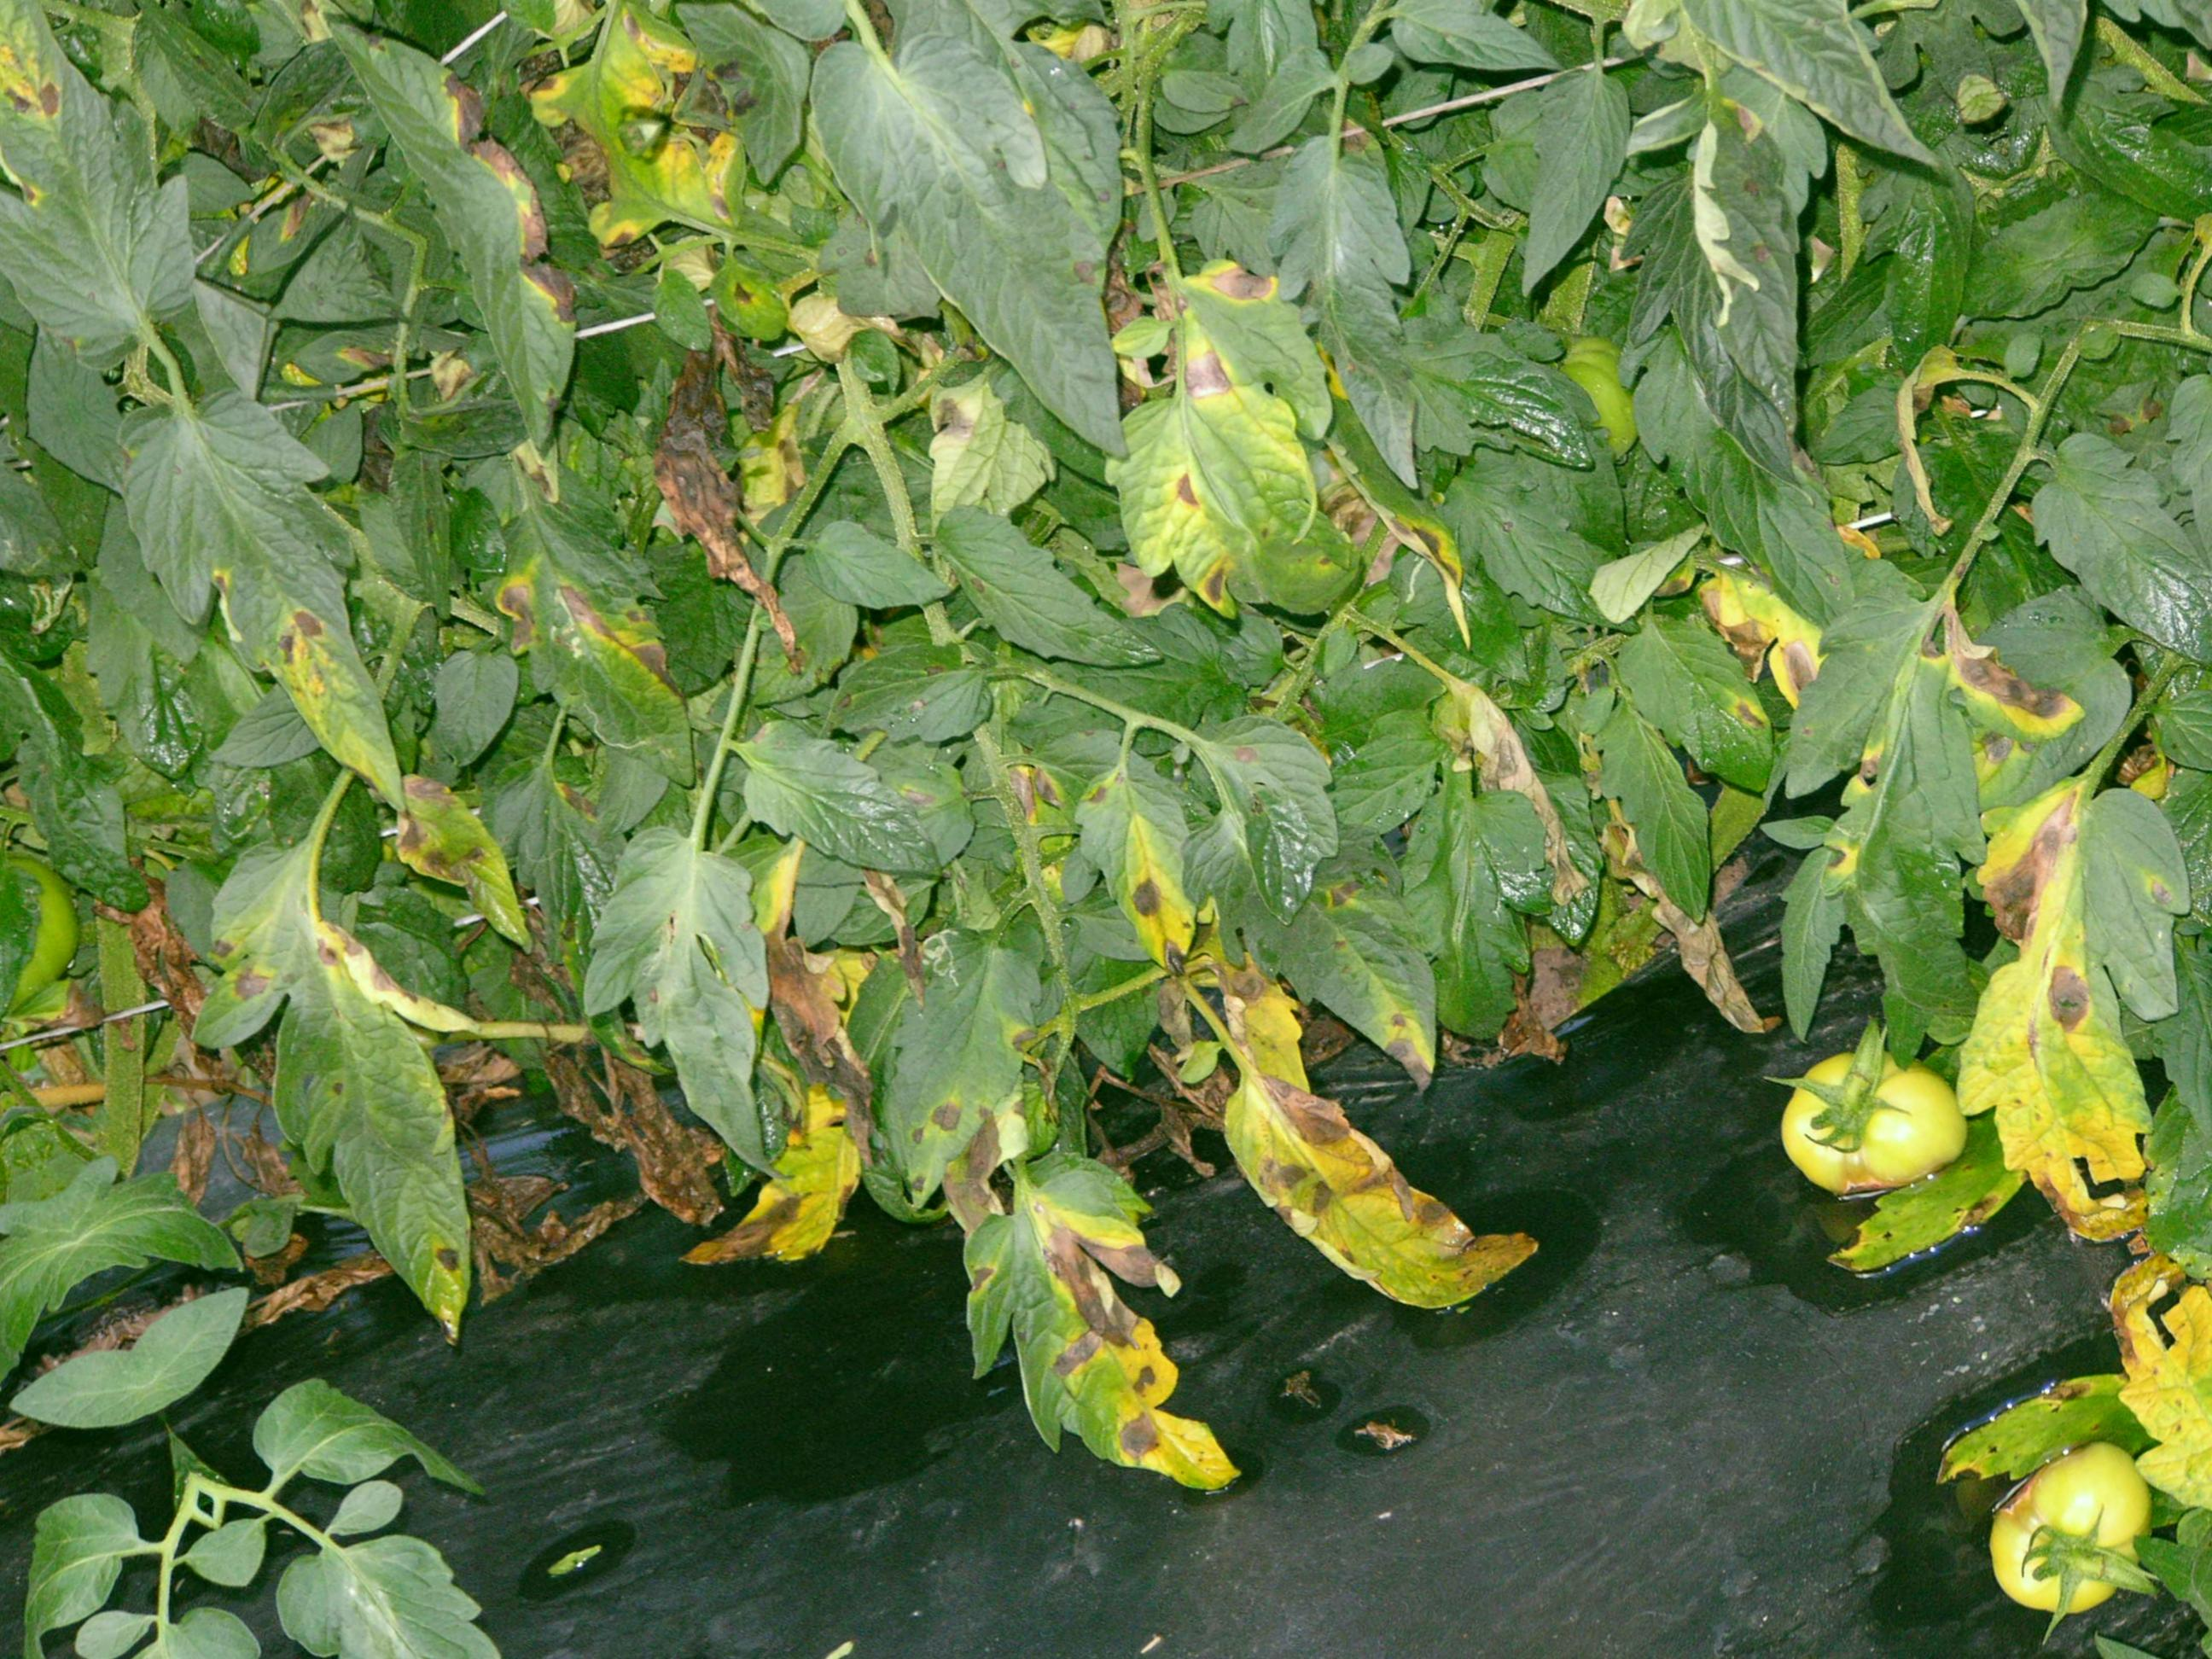Tomato Early blight leaf: (119, 768, 569, 1387), (63, 311, 505, 861), (1157, 951, 1590, 1461), (1866, 718, 2212, 1237), (931, 1126, 1295, 1580), (445, 420, 756, 826), (1237, 137, 1496, 517), (1079, 352, 1384, 663), (910, 457, 1173, 744), (1580, 573, 1834, 870), (575, 109, 846, 381), (712, 671, 962, 949), (2005, 410, 2212, 725), (1659, 0, 1932, 218), (255, 1474, 572, 1659), (1051, 720, 1254, 987), (1452, 70, 1668, 292), (353, 743, 552, 973), (1372, 0, 1580, 141)
